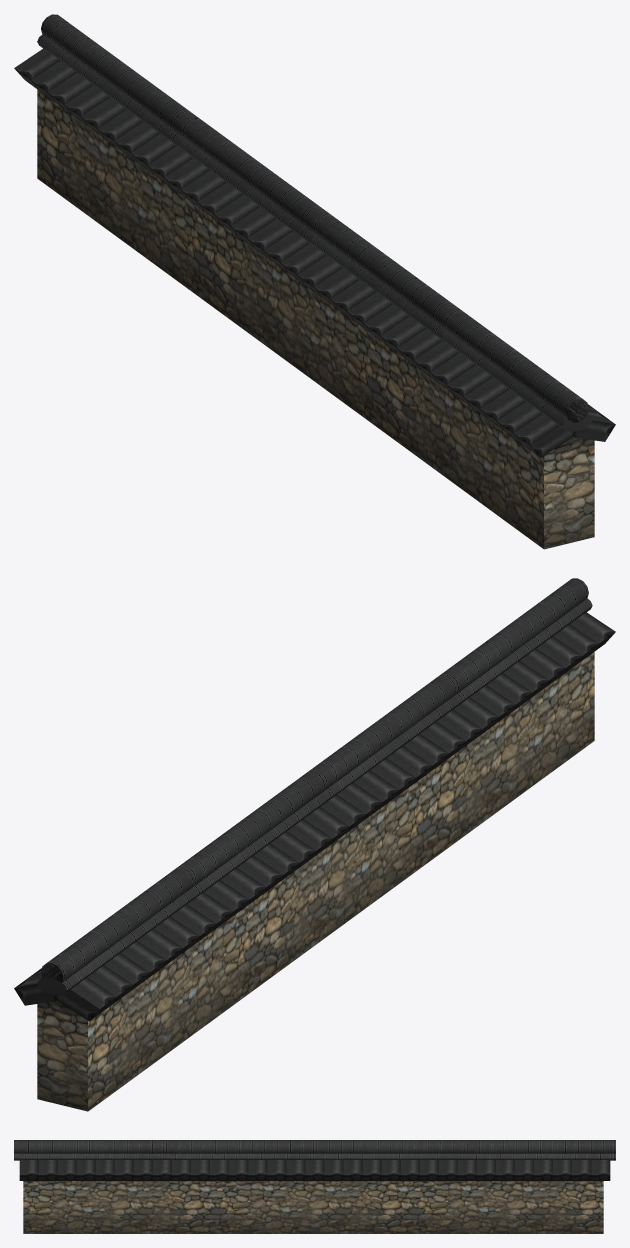
The model's file is KoreanMansion_Wall_L.FBX.
3 renders of one model, top to bottom at view 1: azimuth 30°, elevation 25°; view 2: azimuth 150°, elevation 25°; view 3: azimuth 270°, elevation 25°, orthographic. The views are drawn at different scales.
Parts seen in each view (by area): view 1: KoreanMansion_Wall_L; view 2: KoreanMansion_Wall_L; view 3: KoreanMansion_Wall_L.
Boxes of the visible parts, x1,y1,x2,y2 form: KoreanMansion_Wall_L: [14, 14, 615, 549]; KoreanMansion_Wall_L: [14, 578, 615, 1111]; KoreanMansion_Wall_L: [14, 1140, 615, 1233].
Bounding box in the file's own units: 104 × 173 × 1096.
